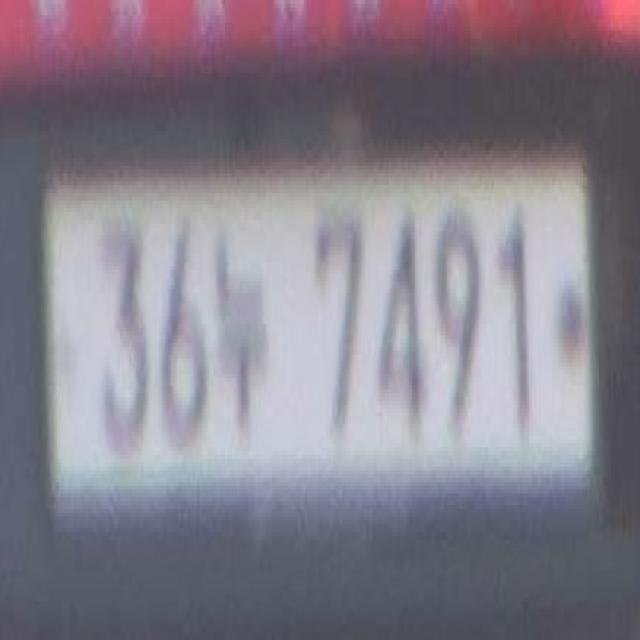1: (498, 204, 532, 432)
3: (98, 208, 150, 447)
4: (377, 208, 428, 428)
6: (159, 205, 209, 440)
7: (314, 212, 364, 424)
9: (430, 200, 479, 432)
license_plate: (42, 135, 599, 517)
nu: (212, 224, 269, 436)
